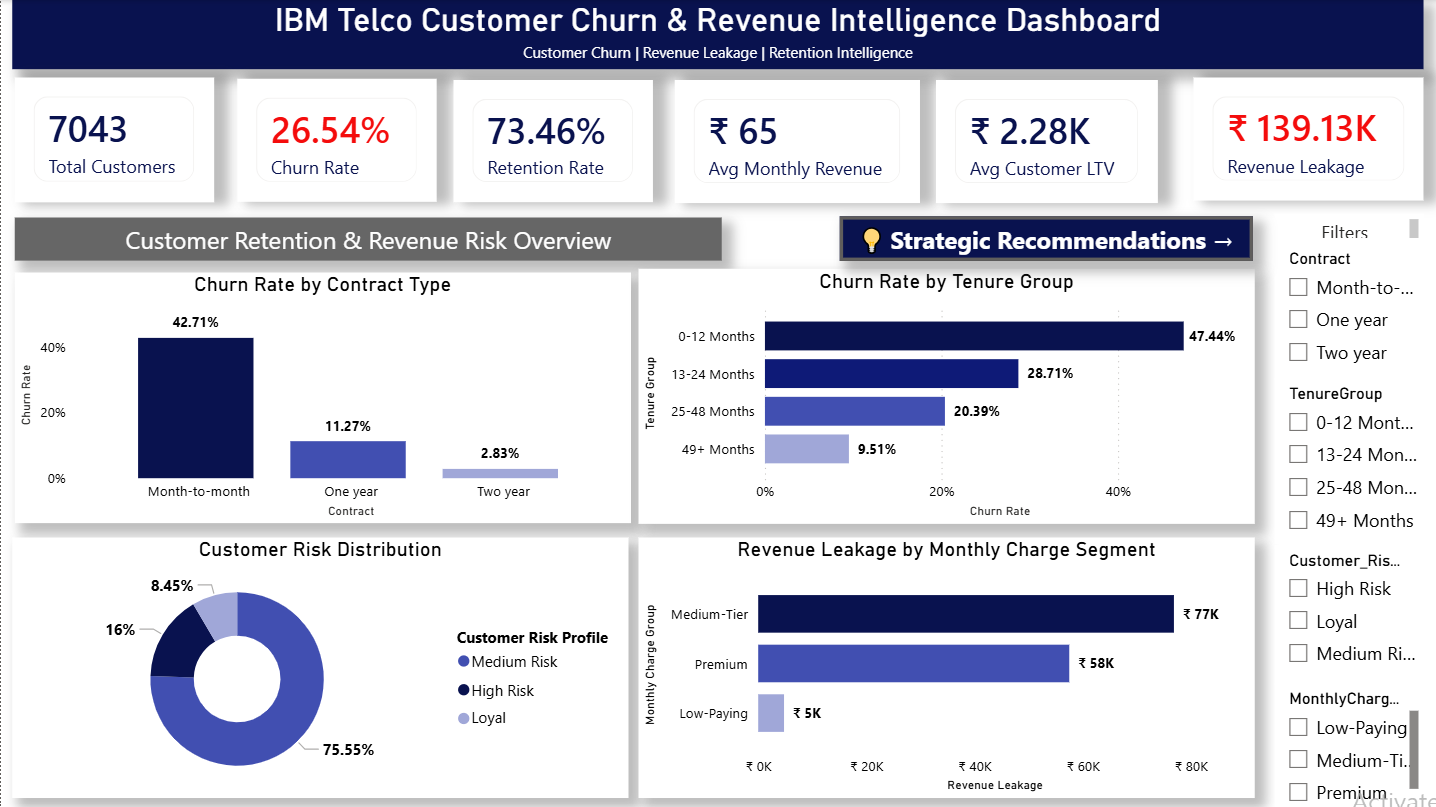

What the dashboard file says about the page in this screenshot:
{"tool":"powerbi","page":{"name":"Executive Overview","canvas":[1280,720],"ordinal":0},"visuals":[{"type":"textbox","title":"IBM Telco Customer Churn & Revenue Intelligence Dashboard","box":[9.7,0,1257.1,61.5],"z":0},{"type":"cardVisual","fields":{"Data":["Measure.Total Customers"]},"box":[12.1,68.8,177.3,111],"z":1000},{"type":"cardVisual","fields":{"Data":["Measure.Churn Rate"]},"box":[209.9,70,177.3,109.8],"z":2000},{"type":"cardVisual","fields":{"Data":["Measure.Retention Rate"]},"box":[403,71.2,177.3,108.6],"z":3000},{"type":"cardVisual","fields":{"Data":["Measure.Avg Monthly Revenue"]},"box":[599.6,71.2,218.4,109.8],"z":4000},{"type":"cardVisual","fields":{"Data":["Measure.Avg Customer LTV"]},"box":[832.4,71.2,197.9,109.8],"z":5000},{"type":"cardVisual","fields":{"Data":["Measure.Revenue Leakage"]},"box":[1061.7,68.8,205.1,109.8],"z":6000},{"type":"textbox","box":[12.1,194.2,629.8,38.6],"z":7000},{"type":"clusteredColumnChart","title":"Churn Rate by Contract Type","fields":{"Category":["final_telco_customer_analytics.Contract"],"Y":["Measure.Churn Rate"]},"box":[12.1,242.5,548.9,223.2],"z":8000},{"type":"barChart","title":"Churn Rate by Tenure Group","fields":{"Category":["final_telco_customer_analytics.TenureGroup"],"Y":["Measure.Churn Rate"]},"box":[568.2,238.9,548.9,226.8],"z":9000},{"type":"donutChart","title":"Customer Risk Distribution","fields":{"Category":["final_telco_customer_analytics.Customer_Risk_Profile"],"Y":["Measure.Total Customers"]},"box":[9.7,479,548.9,231.6],"z":10000},{"type":"clusteredBarChart","title":"Revenue Leakage by Monthly Charge Segment","fields":{"Y":["Measure.Revenue Leakage"],"Category":["final_telco_customer_analytics.MonthlyChargeGroup"]},"box":[568.2,479,548.9,231.6],"z":11000},{"type":"slicer","fields":{"Values":["final_telco_customer_analytics.Contract"]},"box":[1134.1,217.2,132.7,120.6],"z":12000},{"type":"slicer","fields":{"Values":["final_telco_customer_analytics.TenureGroup"]},"box":[1134.1,337.8,132.7,147.2],"z":13000},{"type":"slicer","fields":{"Values":["final_telco_customer_analytics.Customer_Risk_Profile"]},"box":[1134.1,485,132.7,124.3],"z":14000},{"type":"slicer","fields":{"Values":["final_telco_customer_analytics.MonthlyChargeGroup"]},"box":[1134.1,609.3,132.7,111],"z":15000},{"type":"textbox","box":[1134.1,190.6,132.7,26.5],"z":16000},{"type":"actionButton","box":[746.8,193,368,39.8],"z":17000}]}

Visuals, with their boxes on the page's 1280x720 design canvas (x1, y1, x2, y2). These are canvas units, not pixel positions in the 1436x807 screenshot, which may show the page scaled, cropped or inside an application window:
"IBM Telco Customer Churn & Revenue Intelligence Dashboard" textbox: [left=10, top=0, right=1267, bottom=62]
cardVisual - Measure.Total Customers: [left=12, top=69, right=189, bottom=180]
cardVisual - Measure.Churn Rate: [left=210, top=70, right=387, bottom=180]
cardVisual - Measure.Retention Rate: [left=403, top=71, right=580, bottom=180]
cardVisual - Measure.Avg Monthly Revenue: [left=600, top=71, right=818, bottom=181]
cardVisual - Measure.Avg Customer LTV: [left=832, top=71, right=1030, bottom=181]
cardVisual - Measure.Revenue Leakage: [left=1062, top=69, right=1267, bottom=179]
textbox: [left=12, top=194, right=642, bottom=233]
"Churn Rate by Contract Type" clusteredColumnChart: [left=12, top=242, right=561, bottom=466]
"Churn Rate by Tenure Group" barChart: [left=568, top=239, right=1117, bottom=466]
"Customer Risk Distribution" donutChart: [left=10, top=479, right=559, bottom=711]
"Revenue Leakage by Monthly Charge Segment" clusteredBarChart: [left=568, top=479, right=1117, bottom=711]
slicer - final_telco_customer_analytics.Contract: [left=1134, top=217, right=1267, bottom=338]
slicer - final_telco_customer_analytics.TenureGroup: [left=1134, top=338, right=1267, bottom=485]
slicer - final_telco_customer_analytics.Customer_Risk_Profile: [left=1134, top=485, right=1267, bottom=609]
slicer - final_telco_customer_analytics.MonthlyChargeGroup: [left=1134, top=609, right=1267, bottom=720]
textbox: [left=1134, top=191, right=1267, bottom=217]
actionButton: [left=747, top=193, right=1115, bottom=233]
